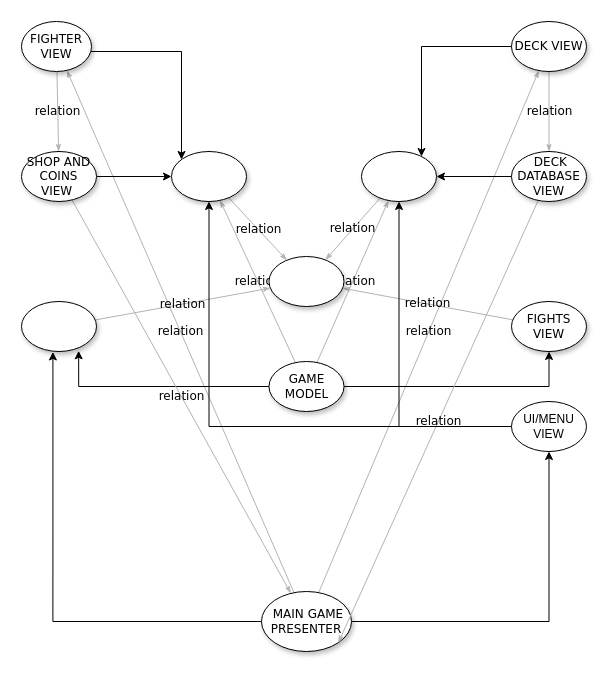
Some shapes in this 610 by 676 pixel diagram are drawn without their labels. The centre of each missing label's shape, as x and y in pixels:
DECK & CARD MODEL: the point at 399,177
FIGHT PRESENTER: the point at 307,283
FIGHTER DATA MODEL: the point at 209,177
NETWORK VIEW: the point at 59,327
